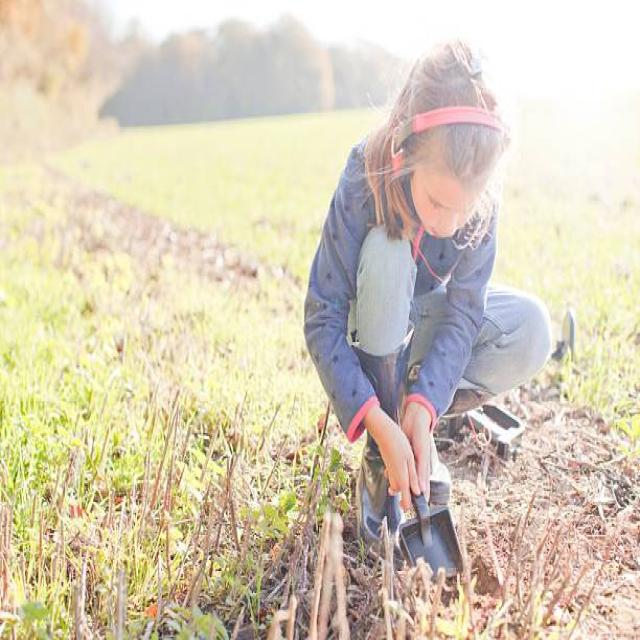Headphone: (391, 106, 505, 183)
